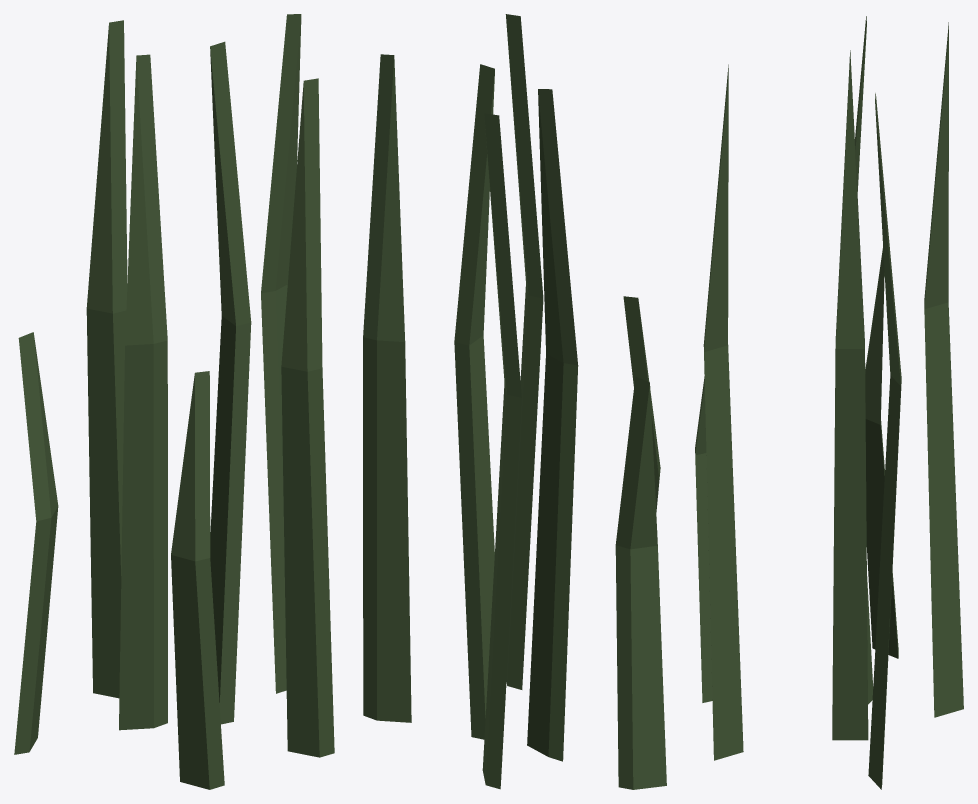
Rendered from Grass_3.glb.
The picture shows the model from 3 angles, left to right: view 1: azimuth 30°, elevation 25°; view 2: azimuth 150°, elevation 25°; view 3: azimuth 270°, elevation 25°; orthographic projection. The views are drawn at different scales.
Visible parts, largest first — view 1: Grass_3.obj; view 2: Grass_3.obj; view 3: Grass_3.obj.
Part boxes in pixels (x1,y1,x2,y2): Grass_3.obj: (14,14,334,789); Grass_3.obj: (363,14,666,789); Grass_3.obj: (695,16,963,789).
Size of the model in its own units: 0.3738 by 0.7952 by 0.2824.
